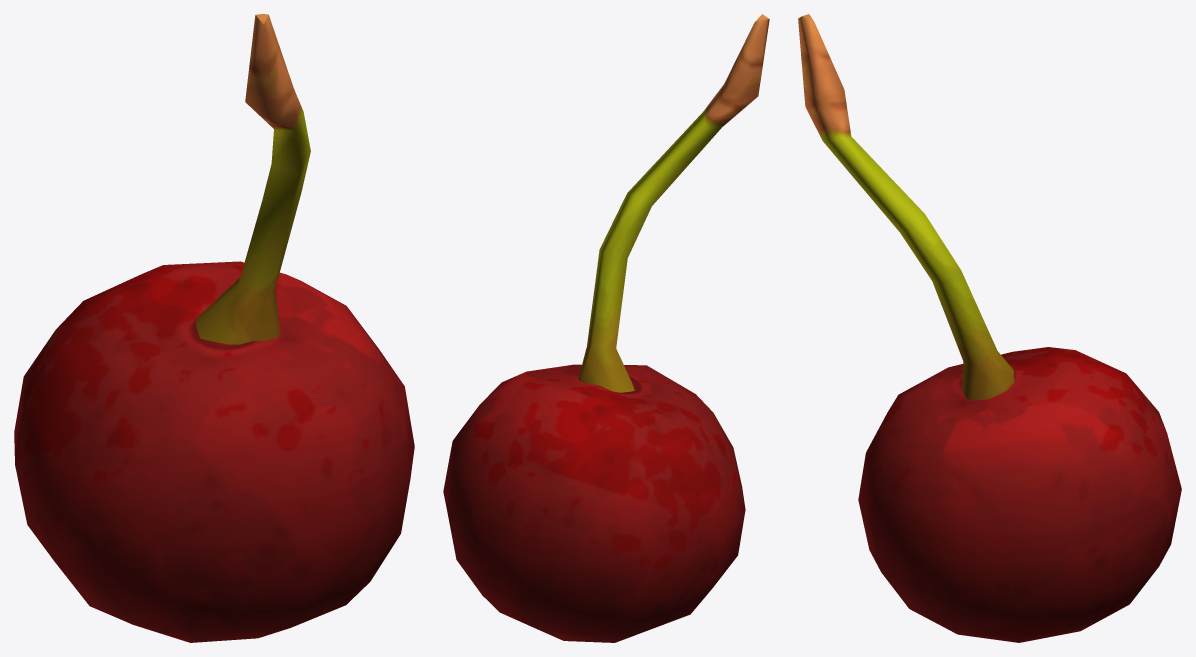
The model's file is SM_CherryD.fbx.
3 views of the same model, side by side, from view 1: azimuth 30°, elevation 25°; view 2: azimuth 150°, elevation 25°; view 3: azimuth 270°, elevation 25° (orthographic). The views are drawn at different scales.
Visible parts, largest first — view 1: SM_CherryD; view 2: SM_CherryD; view 3: SM_CherryD.
Boxes of the visible parts, x1=… form: SM_CherryD: x1=14, y1=14, x2=414, y2=642; SM_CherryD: x1=443, y1=14, x2=769, y2=642; SM_CherryD: x1=798, y1=14, x2=1181, y2=642.
Size of the model in its own units: 5.02 by 10.09 by 6.08.
